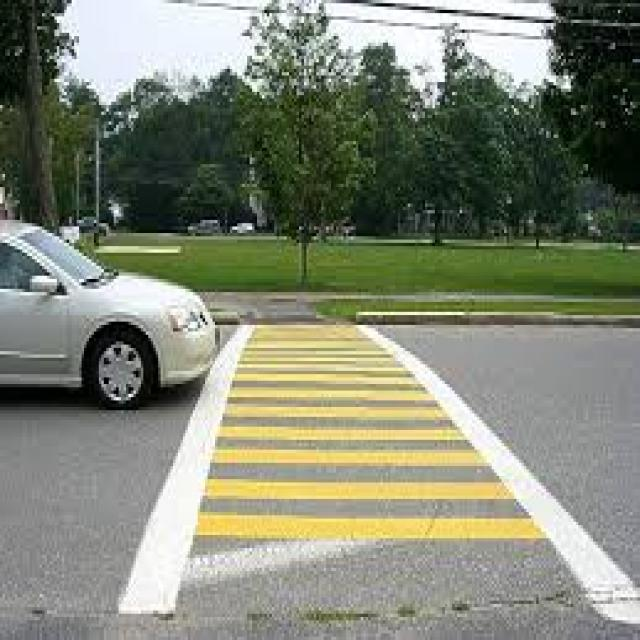Crosswalk: (119, 322, 640, 620)
